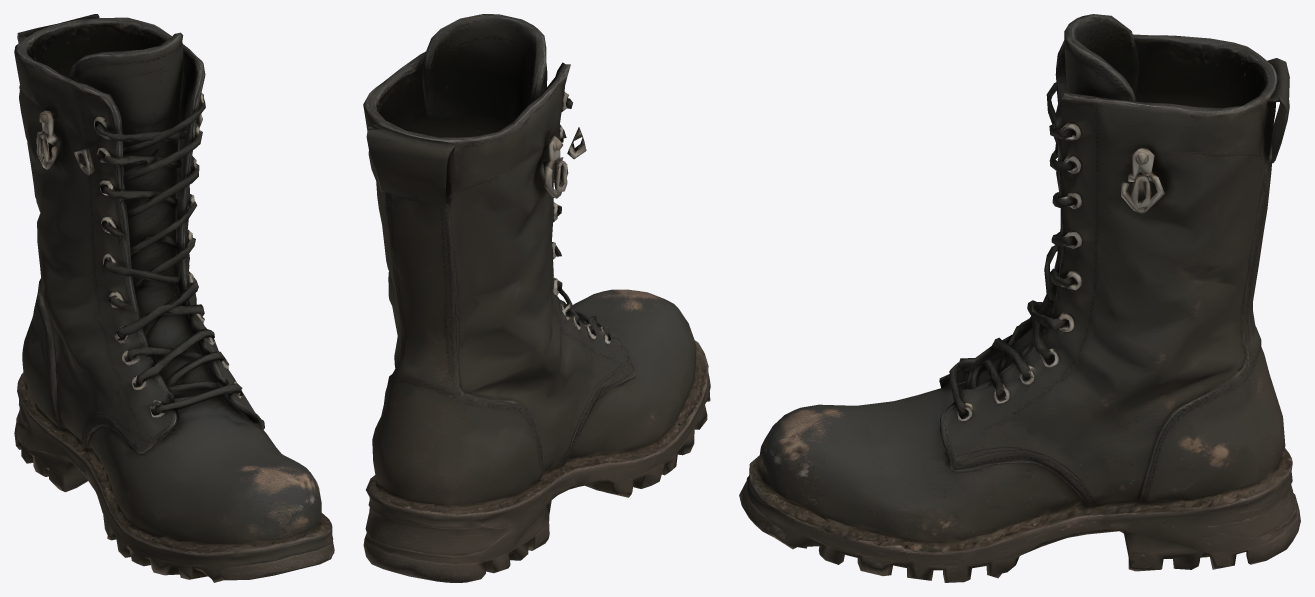
File: sol_mod_boot_src.glb
3 views of the same model, side by side, from view 1: azimuth 30°, elevation 25°; view 2: azimuth 150°, elevation 25°; view 3: azimuth 270°, elevation 25° (orthographic). The views are drawn at different scales.
Visible parts, largest first — view 1: tripo_node_748a836d-f5a5-4dab-ab46-e3bc7aad9f5d; view 2: tripo_node_748a836d-f5a5-4dab-ab46-e3bc7aad9f5d; view 3: tripo_node_748a836d-f5a5-4dab-ab46-e3bc7aad9f5d.
Boxes of the visible parts, x1,y1,x2,y2 form: tripo_node_748a836d-f5a5-4dab-ab46-e3bc7aad9f5d: (14, 14, 334, 582); tripo_node_748a836d-f5a5-4dab-ab46-e3bc7aad9f5d: (363, 14, 710, 582); tripo_node_748a836d-f5a5-4dab-ab46-e3bc7aad9f5d: (739, 14, 1300, 582).
Bounding box in the file's own units: 0.3897 × 0.9976 × 1.
Materials: 1 (1 with a texture image).
